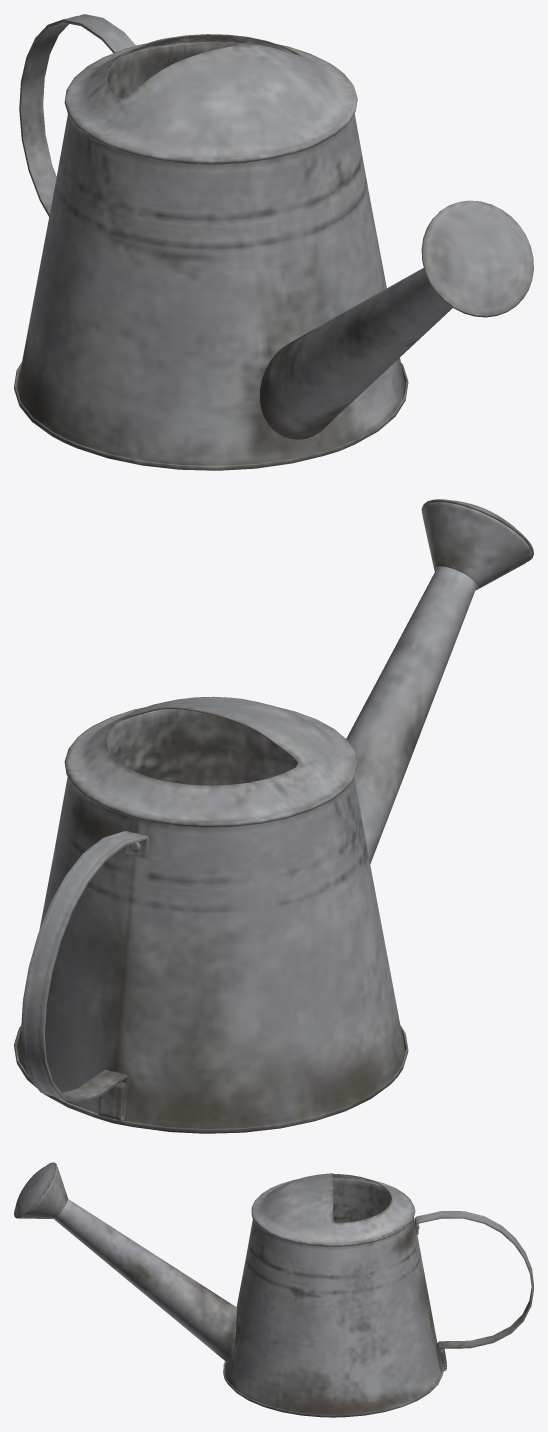
The model's file is watering_can_metal_01.gltf.
3 renders of one model, top to bottom at view 1: azimuth 30°, elevation 25°; view 2: azimuth 150°, elevation 25°; view 3: azimuth 270°, elevation 25°, orthographic. The views are drawn at different scales.
Parts seen in each view (by area): view 1: watering_can_metal_01; view 2: watering_can_metal_01; view 3: watering_can_metal_01.
Boxes of the visible parts, x1=… form: watering_can_metal_01: x1=14, y1=14, x2=533, y2=470; watering_can_metal_01: x1=14, y1=499, x2=533, y2=1133; watering_can_metal_01: x1=14, y1=1162, x2=533, y2=1417.
Size of the model in its own units: 0.191 by 0.1968 by 0.4523.
1 material, 1 textured.
